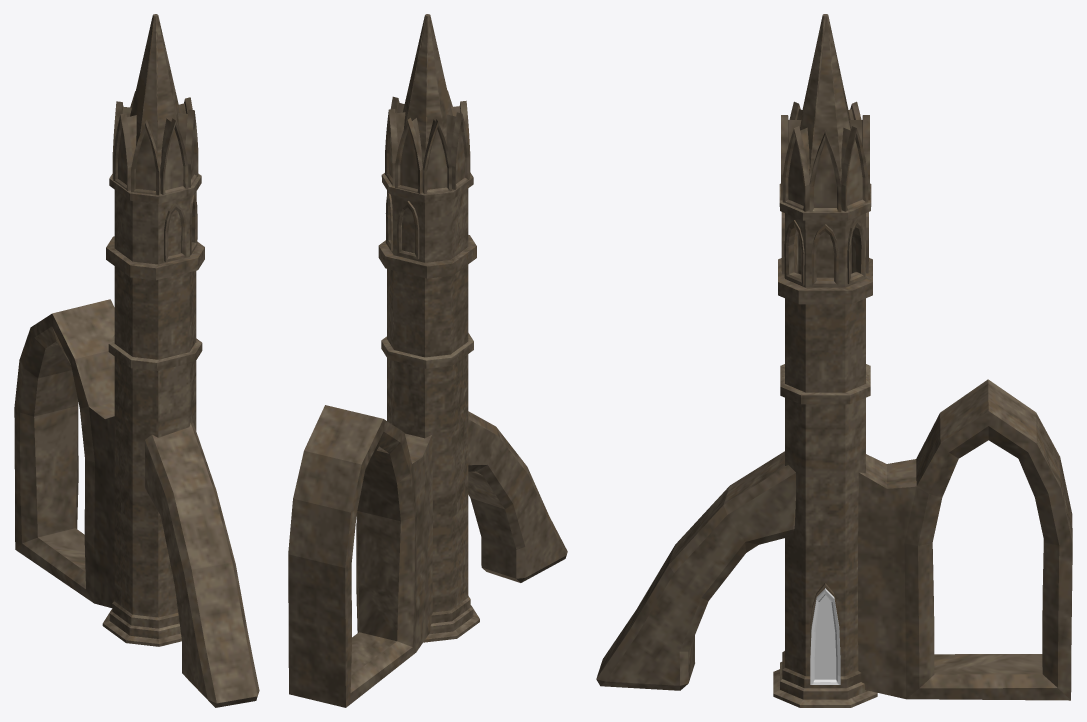
File: Tower.glb
3 renders of one model, left to right at view 1: azimuth 30°, elevation 25°; view 2: azimuth 150°, elevation 25°; view 3: azimuth 270°, elevation 25°, orthographic. The views are drawn at different scales.
Visible parts, largest first — view 1: Cylinder.012, Cylinder, Cube.001; view 2: Cylinder.012, Cylinder, Cube.001; view 3: Cylinder.012, Cylinder, Cube.001, Cylinder.015.
Boxes of the visible parts, x1,y1,x2,y2 form: Cylinder.012: (102, 14, 204, 646); Cylinder: (14, 299, 114, 607); Cube.001: (145, 422, 259, 707); Cylinder.012: (378, 14, 479, 642); Cylinder: (288, 405, 432, 707); Cube.001: (468, 411, 567, 582); Cylinder.012: (773, 14, 877, 707); Cylinder: (858, 379, 1072, 700); Cube.001: (596, 451, 795, 690); Cylinder.015: (810, 588, 840, 684).
Bounding box in the file's own units: 2.66 × 18.28 × 11.75.
1 material, 1 textured.
